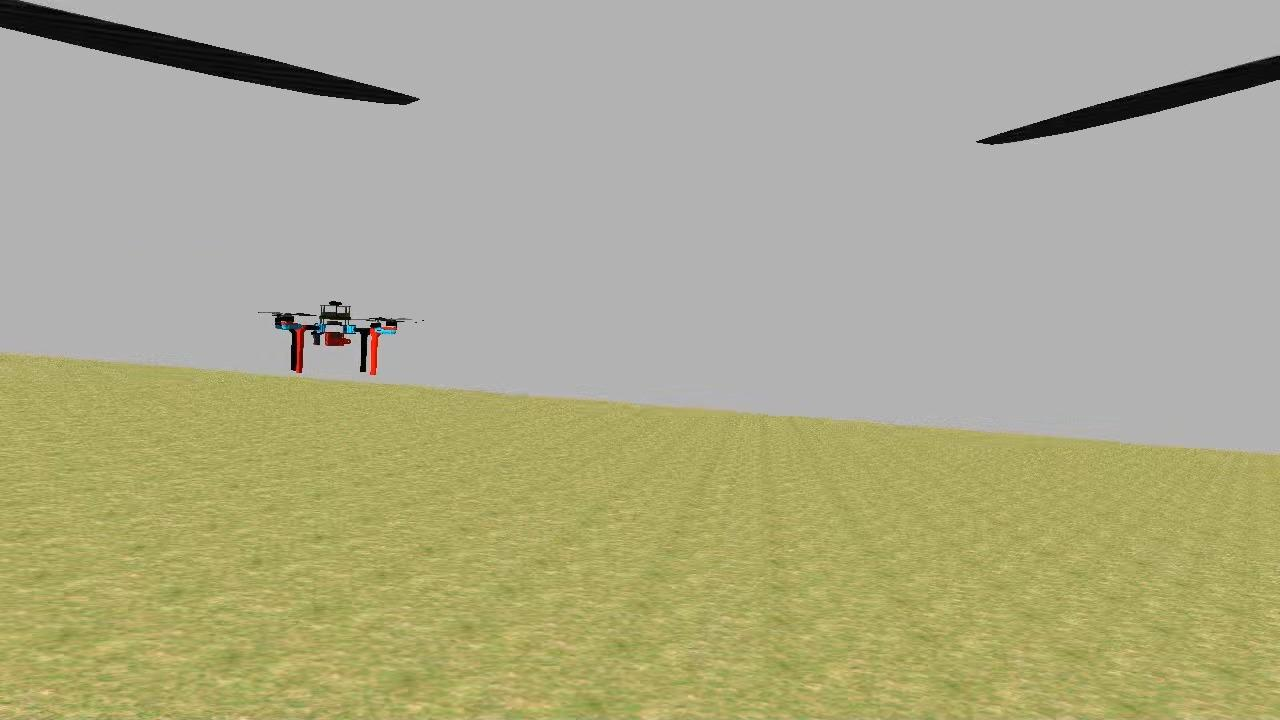UAV: (264, 297, 402, 379)
